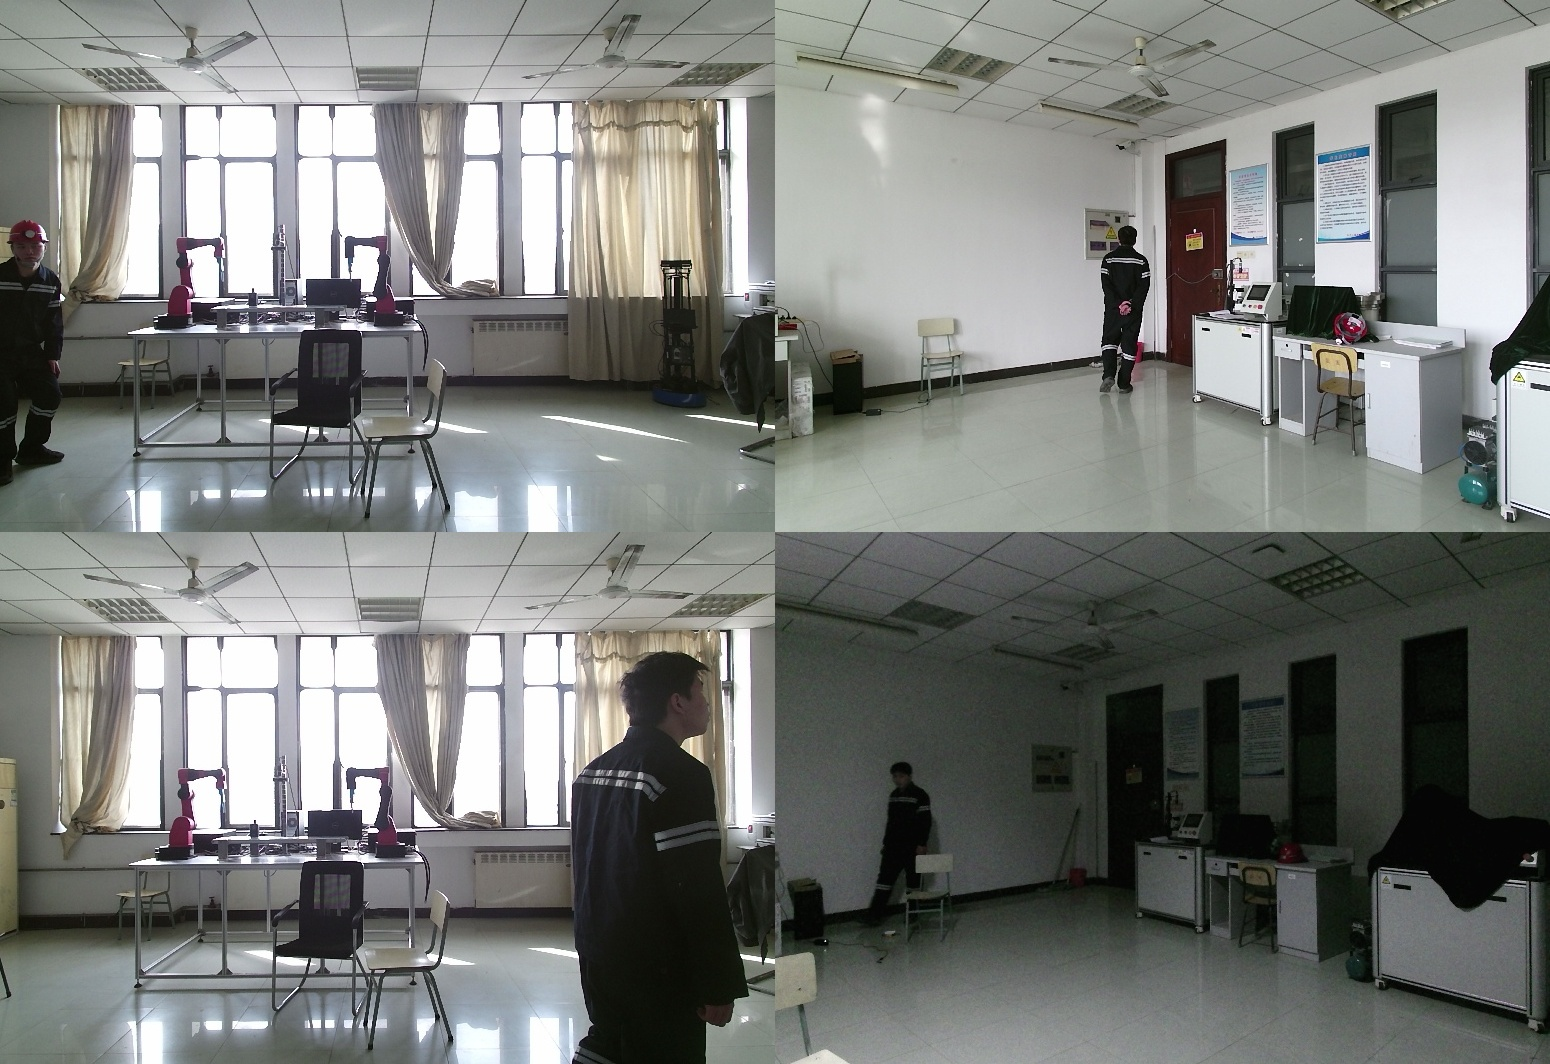person: (573, 654, 763, 1064), (2, 224, 79, 481), (1093, 226, 1154, 401), (881, 763, 937, 923)
